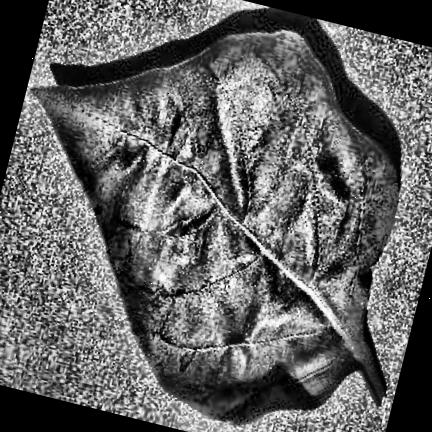leaf: (31, 29, 398, 424)
